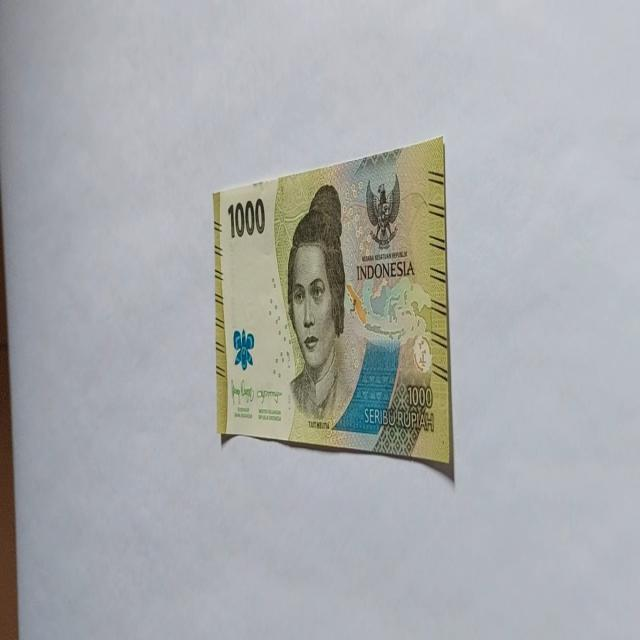seribu rupiah kertas: (212, 135, 454, 479)
